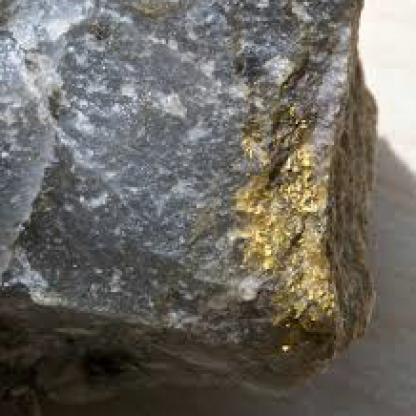Metamorphic_Quartize: (1, 0, 384, 409)
